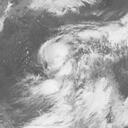cyclone: (37, 36, 78, 74)
